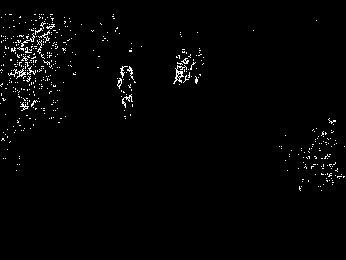person: (114, 64, 139, 122), (192, 46, 206, 86)
